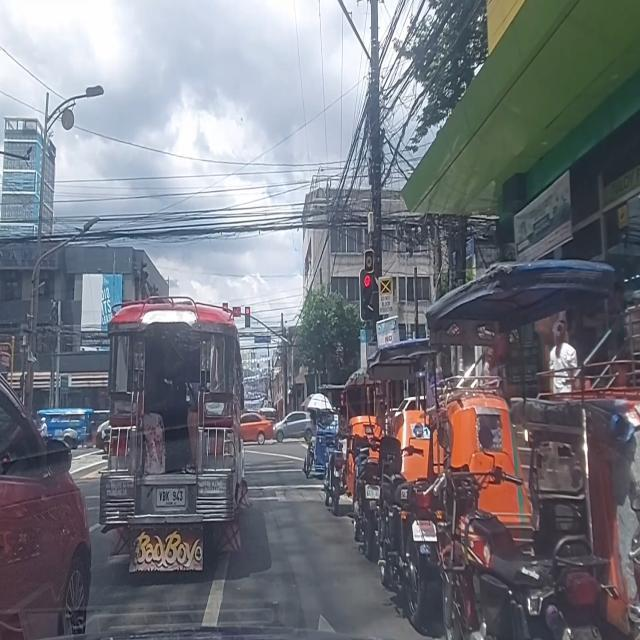car: (0, 352, 94, 639), (273, 410, 315, 443), (241, 412, 273, 446)
jeepney: (99, 294, 250, 574), (32, 409, 94, 451)
tricycle: (429, 256, 640, 640), (368, 338, 530, 628), (354, 366, 431, 560), (318, 380, 381, 516), (300, 391, 340, 477)
